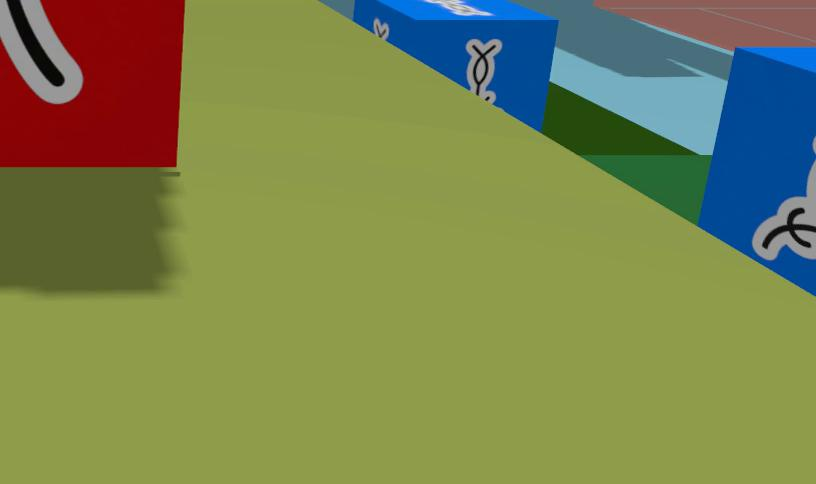KFS_FAKE: (0, 0, 185, 168), (0, 0, 82, 103)
KFS_REAL: (700, 47, 815, 292), (353, 0, 556, 128), (466, 39, 501, 102)
